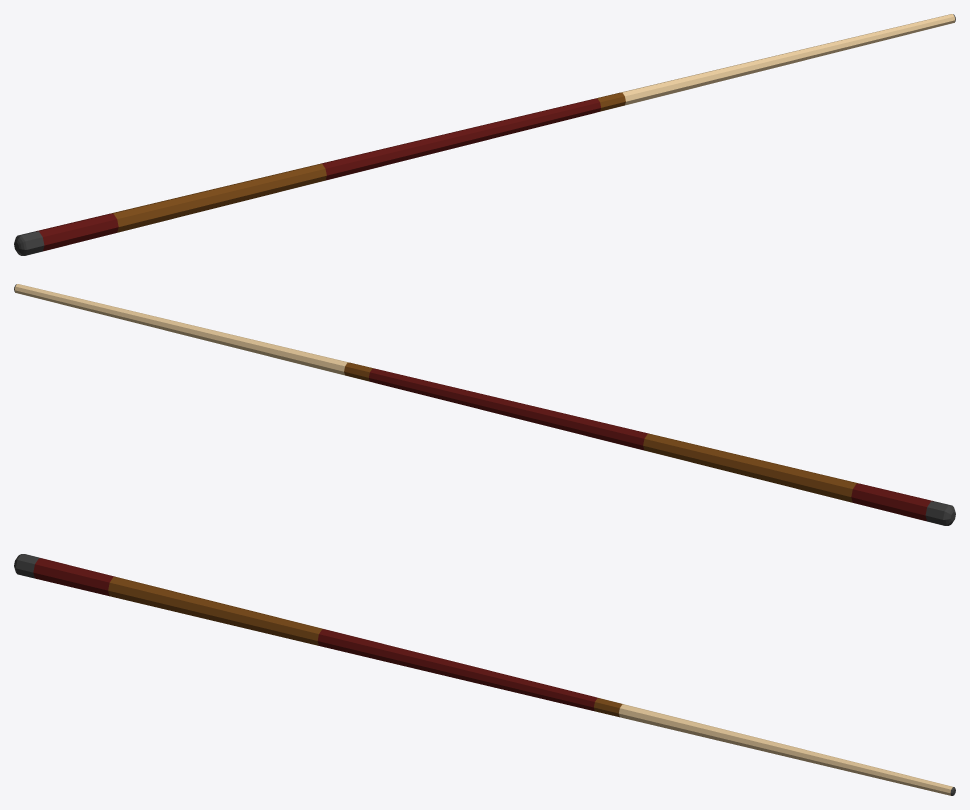
The model's file is poolcue.glb.
3 renders of one model, top to bottom at view 1: azimuth 30°, elevation 25°; view 2: azimuth 150°, elevation 25°; view 3: azimuth 330°, elevation 25°, orthographic.
Visible parts, largest first — view 1: PoolStick1; view 2: PoolStick1; view 3: PoolStick1.
Boxes of the visible parts, x1,y1,x2,y2 form: PoolStick1: [14, 14, 955, 255]; PoolStick1: [14, 284, 955, 525]; PoolStick1: [14, 554, 955, 795].
Bounding box in the file's own units: 1.3 × 0.0271 × 0.0271.
